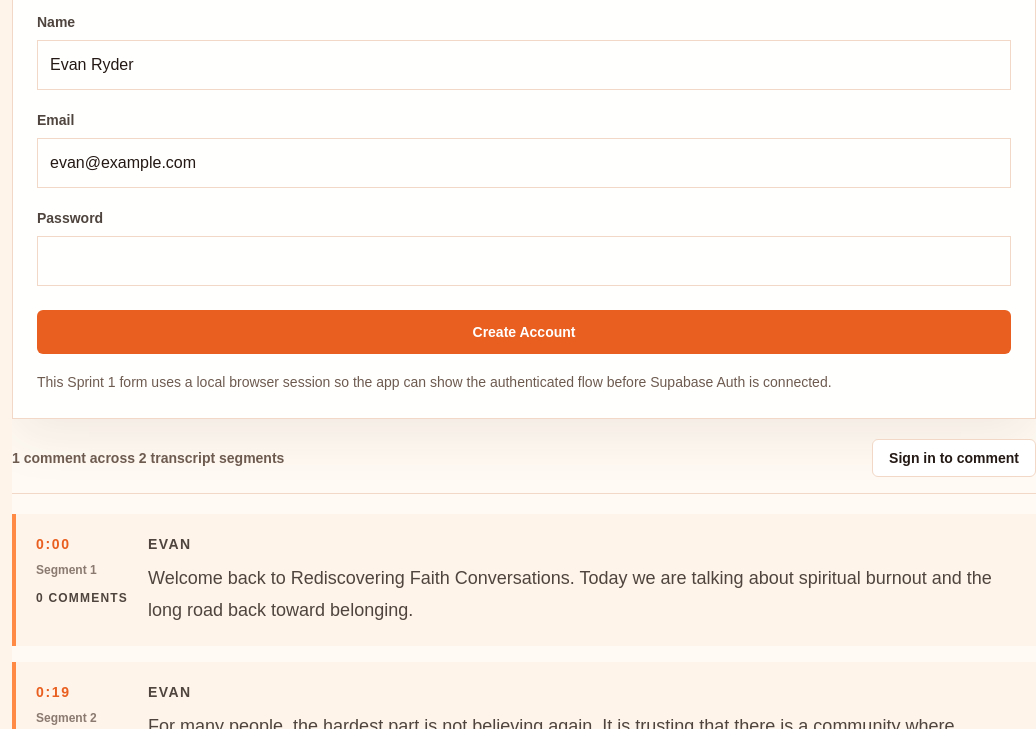
Scenario: EpisodeTranscriptComments › lets a signed-in listener reply and react to an existing comment
Replace the text in the field labelled "Name" with "Taylor Morgan". click: (524, 65)
box: [37,40,1011,90]
Replace the text in the field labelled "Email" with "taylor@example.com". click: (524, 163)
box: [37,138,1011,188]
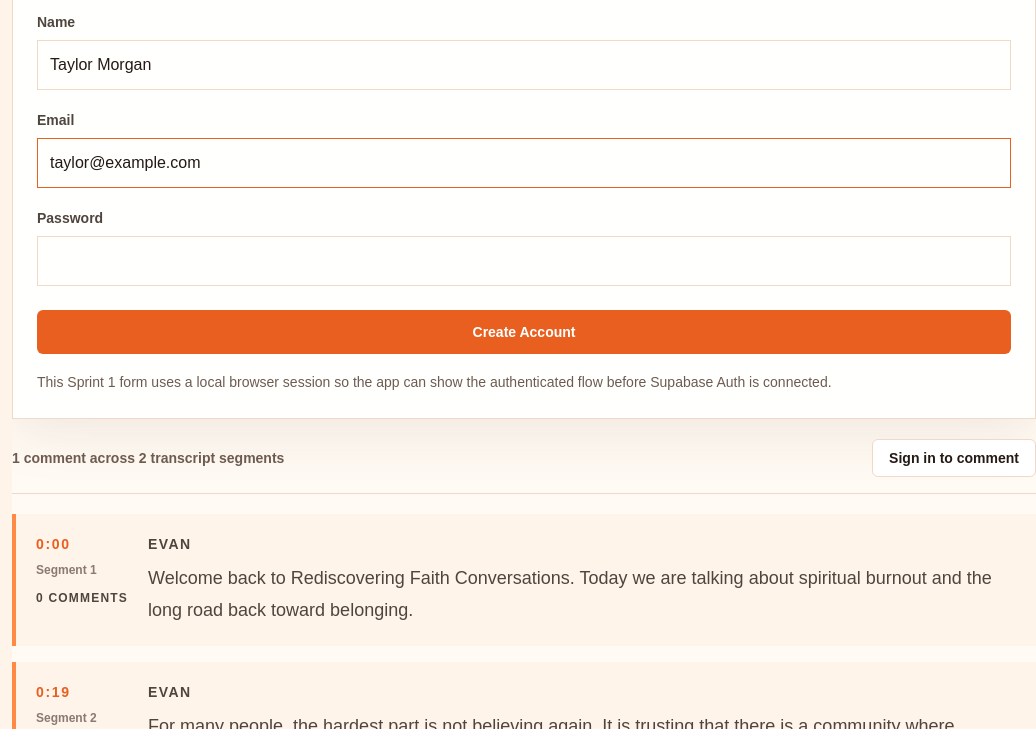
Type "faith-community" into the password field labelled "Password". click: (524, 261)
box: [37,236,1011,286]
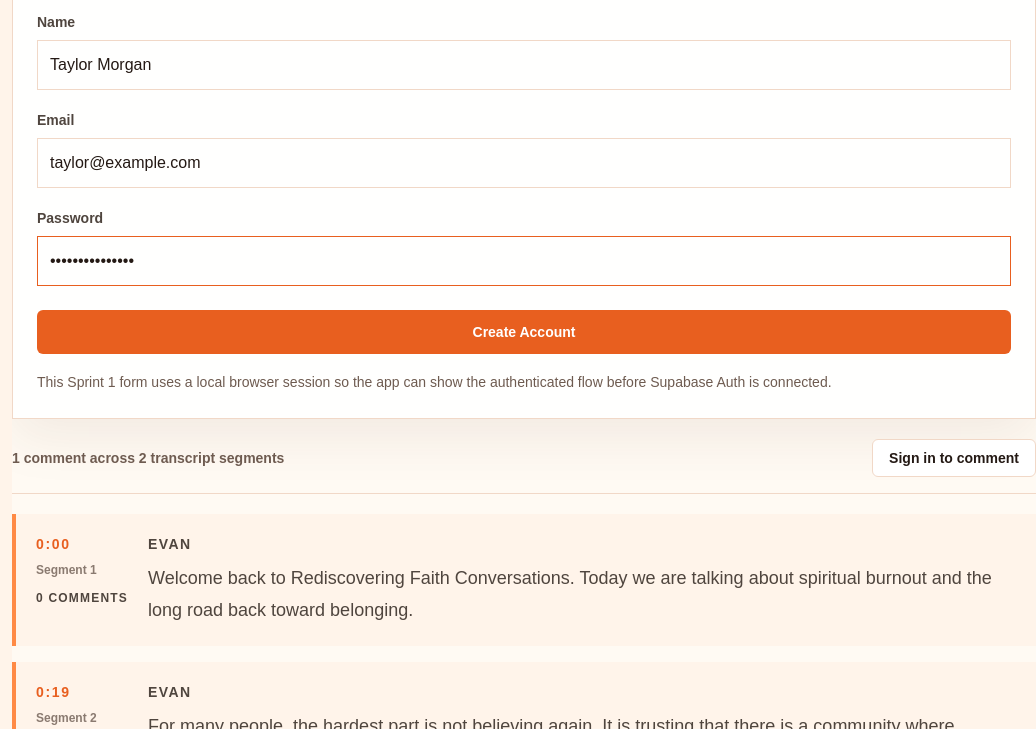
Click the button "Create Account". click: (524, 332)
box: [37,310,1011,354]
(page scrolled)
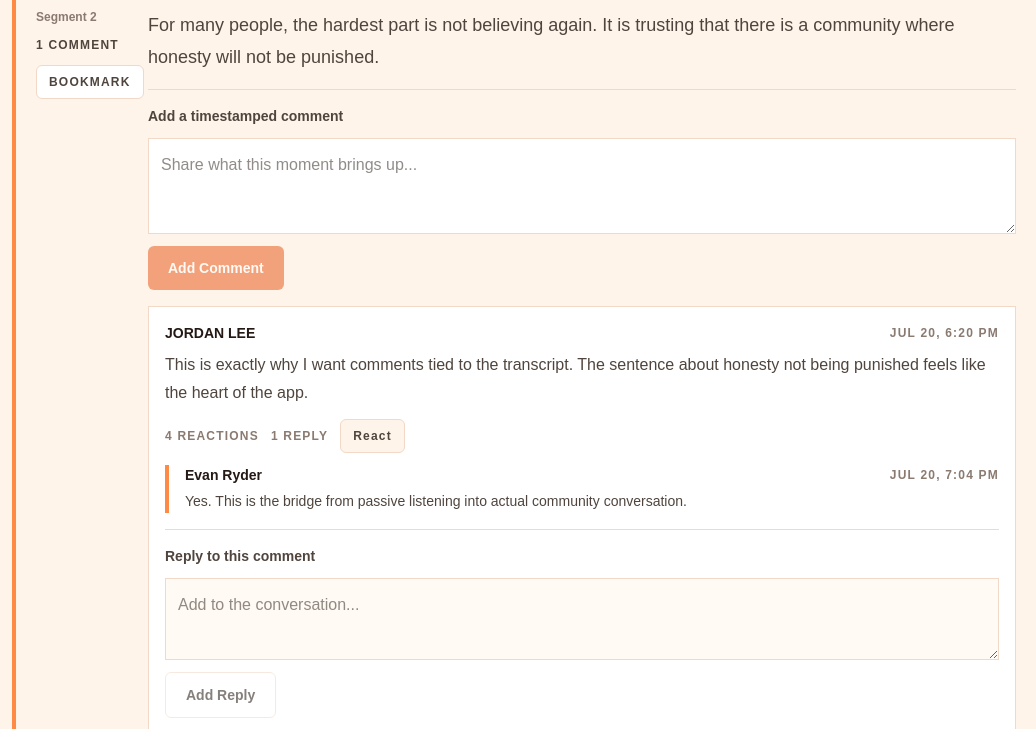
Expected: the text "honesty not being punished feels like the heart of the app" is shown, [165,356,986,401]
Click the button "React". click: (373, 436)
box: [340,419,405,453]
(page scrolled)
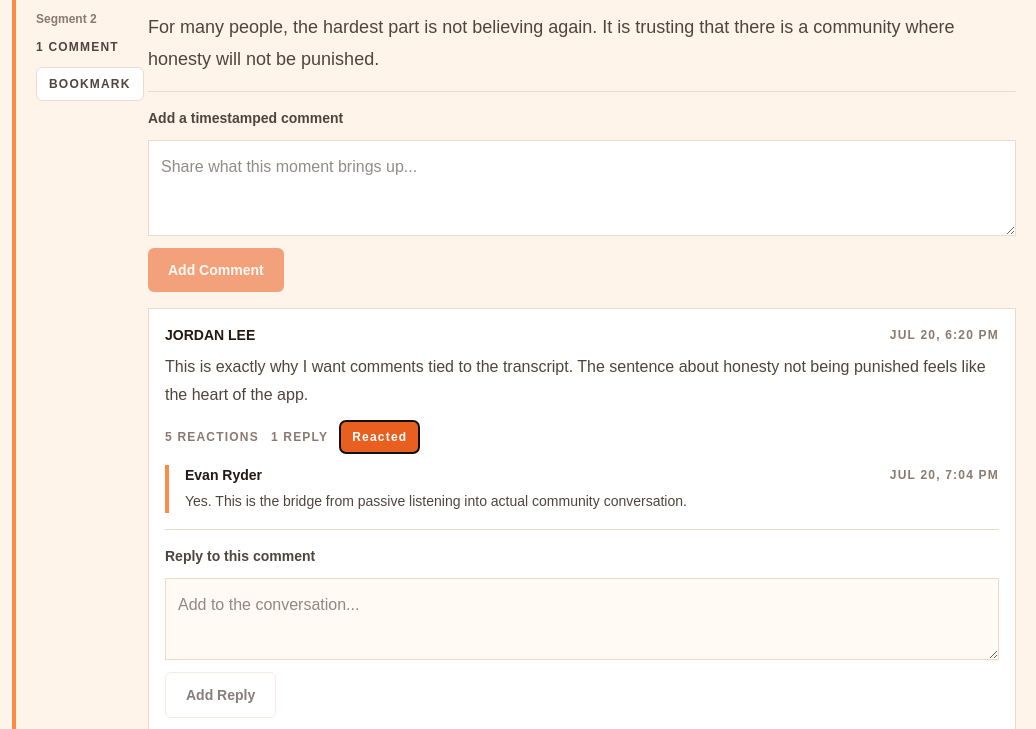
Expected: the text "5 reactions" is shown, [165,429,259,445]
Type "This is the kind of follow-up conversation the app should encourage." into the text box named "Reply to Jordan Lee". click: (582, 619)
box: [165,578,999,660]
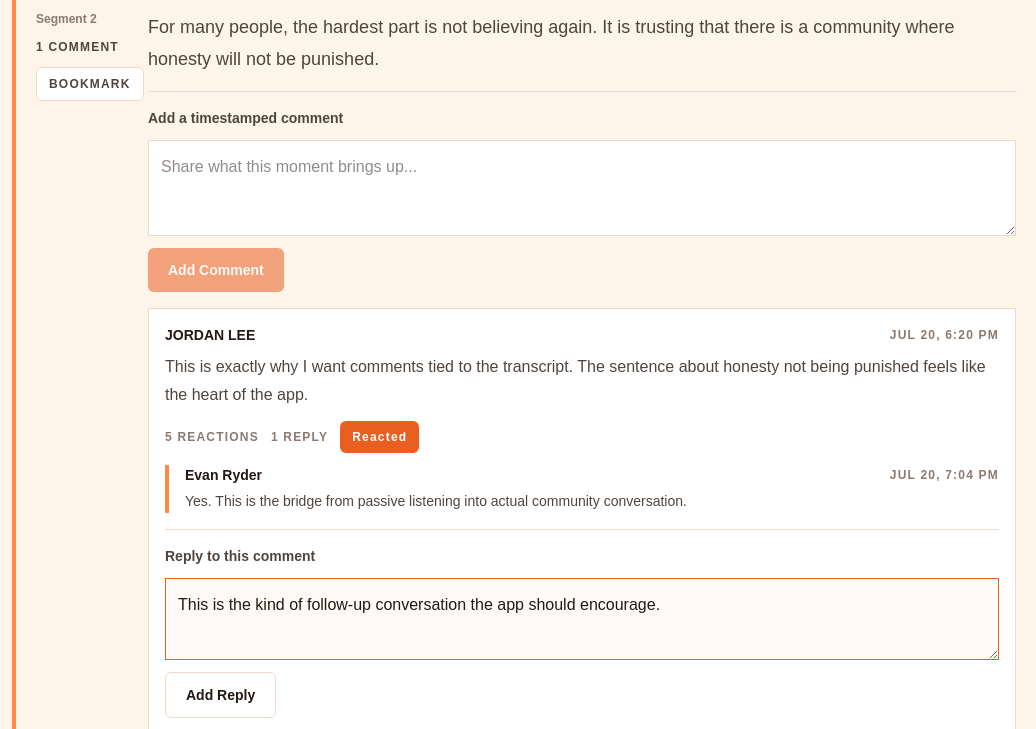
Click the button "Add Reply". click: (221, 695)
box: [165,672,276,718]
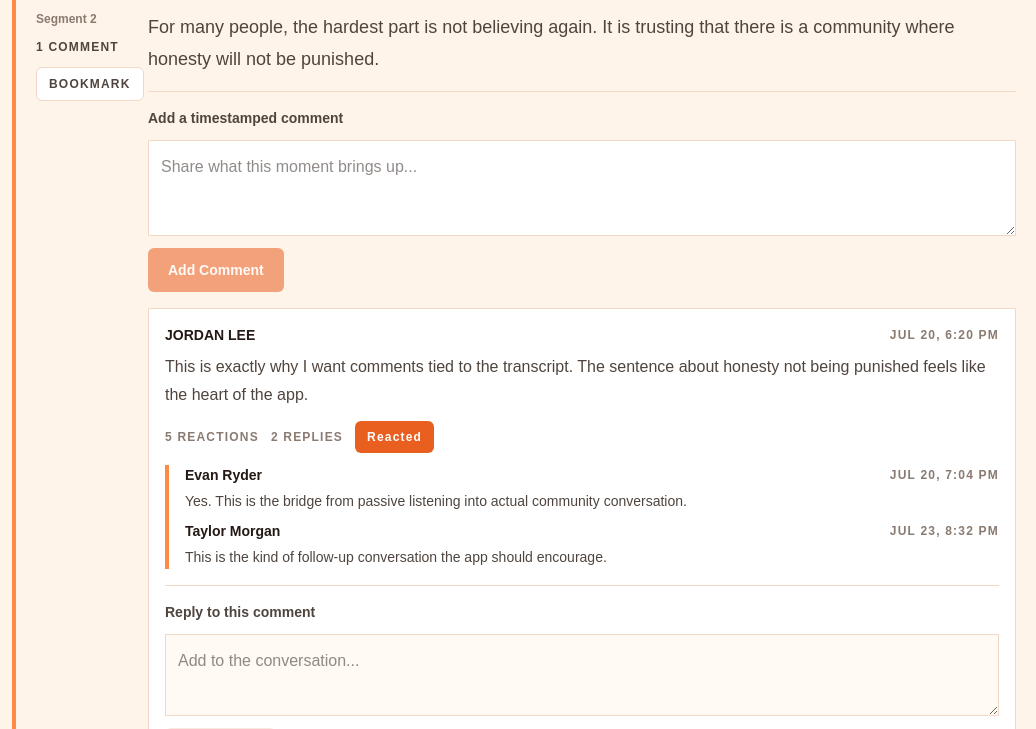
Expected: the text "This is the kind of follow-up conversation the app should encourage." is shown, [185,549,607,565]
Expected: the text "2 replies" is shown, [271,429,343,445]
